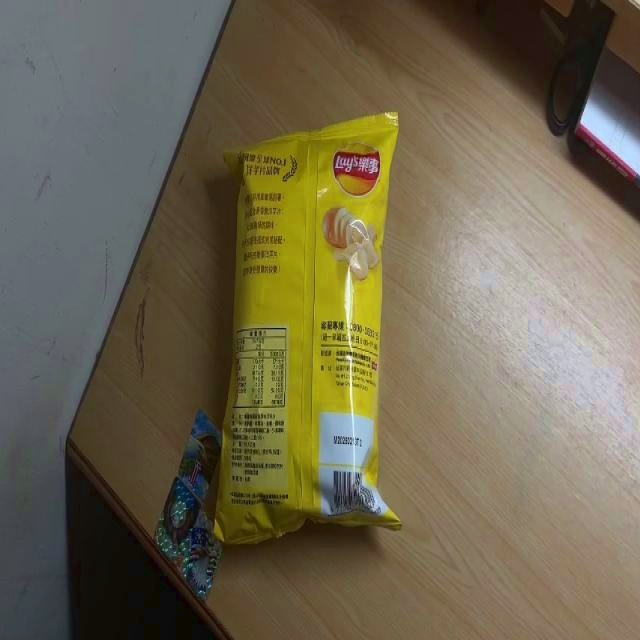Lay-s-original: (212, 110, 402, 548)
